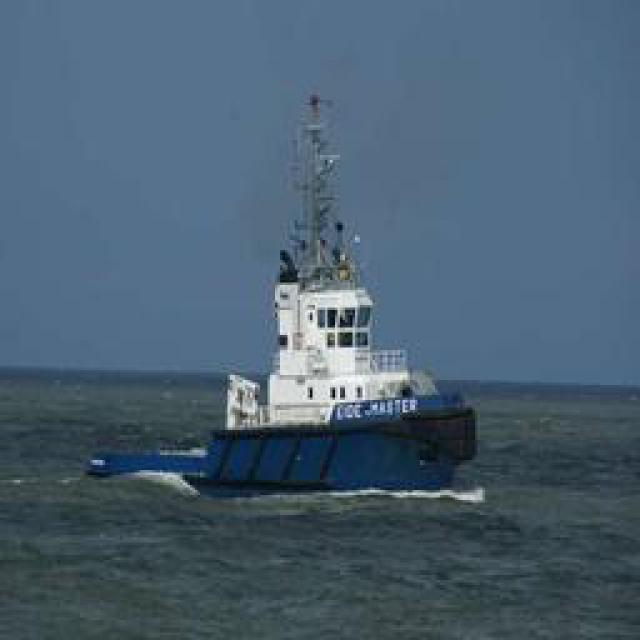Ship: (73, 87, 477, 520)
